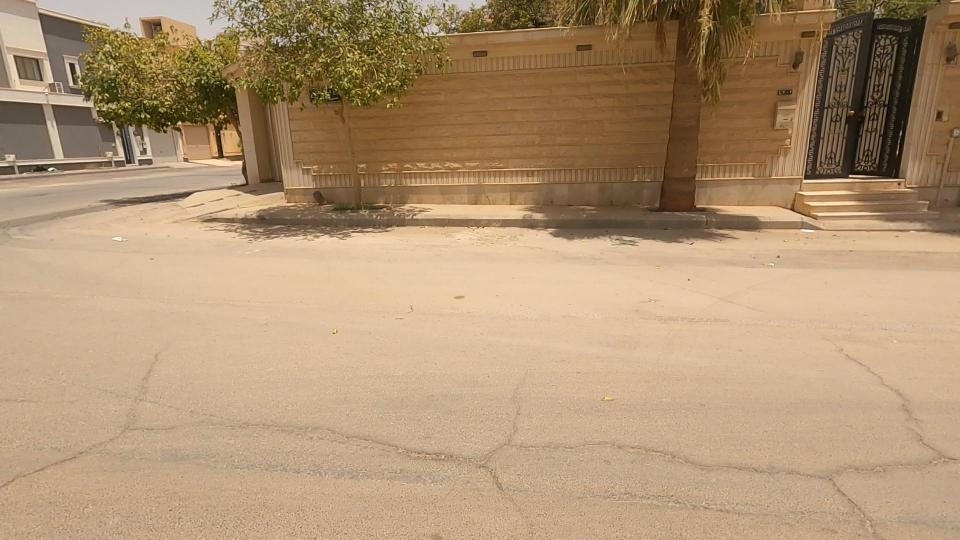GARBAGE: (87, 218, 152, 263)
